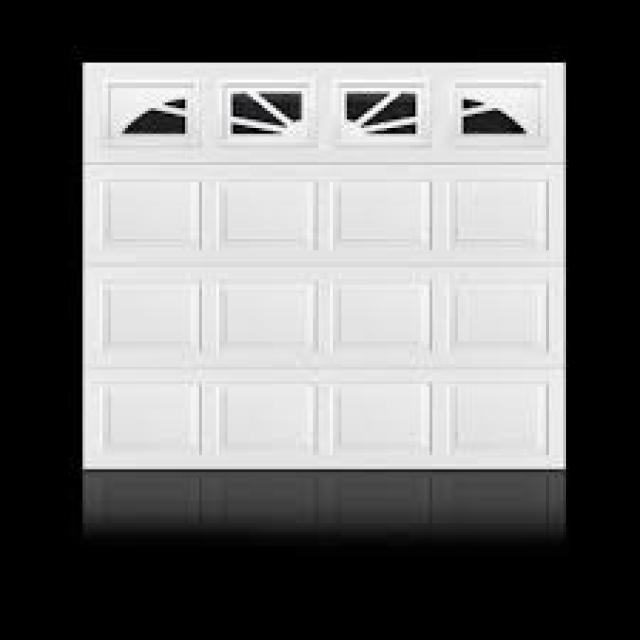door: (81, 60, 568, 472)
